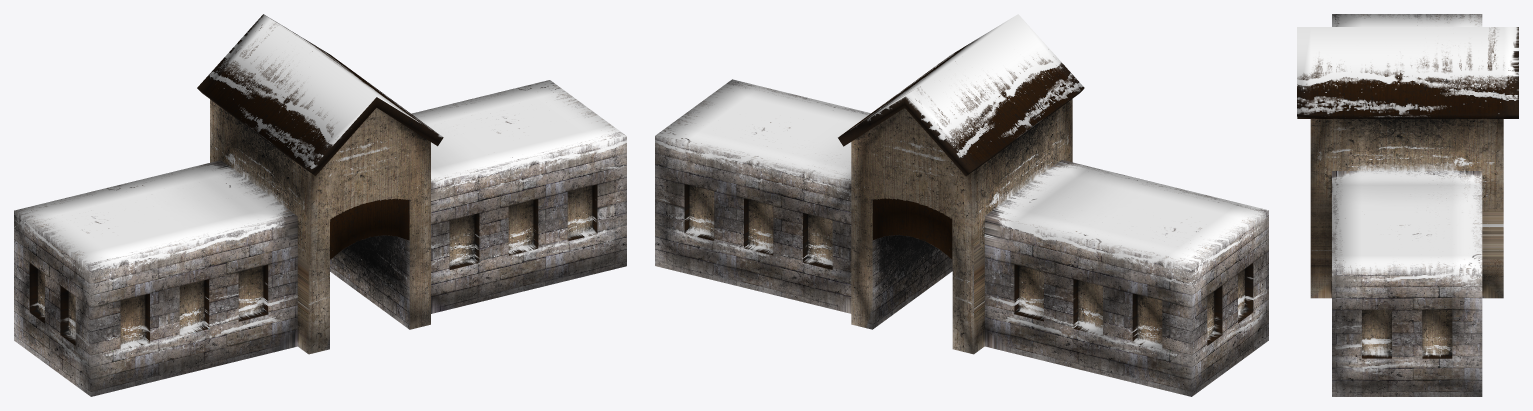
File: station.fbx
The picture shows the model from 3 angles, left to right: view 1: azimuth 30°, elevation 25°; view 2: azimuth 150°, elevation 25°; view 3: azimuth 270°, elevation 25°; orthographic projection. The views are drawn at different scales.
Visible parts, largest first — view 1: Box008; view 2: Box008; view 3: Box008.
Part boxes in pixels (<box>): Box008: <box>14,14,626,396</box>; Box008: <box>655,14,1268,396</box>; Box008: <box>1297,14,1518,396</box>.
Size of the model in its own units: 839 by 371 by 308.
